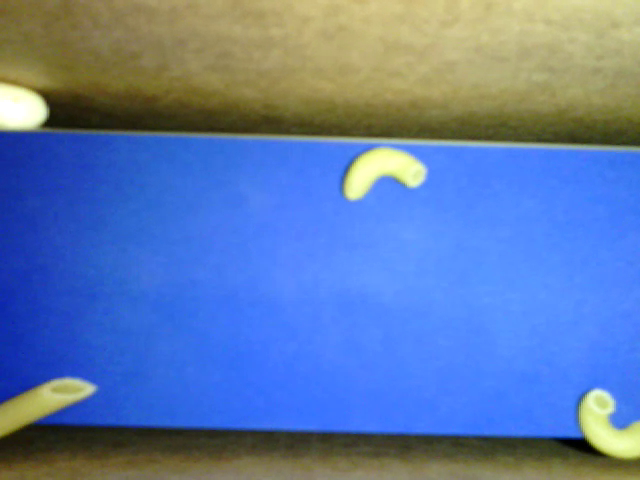elbow: (344, 145, 426, 200), (578, 388, 639, 459)
penne: (1, 376, 99, 436)
